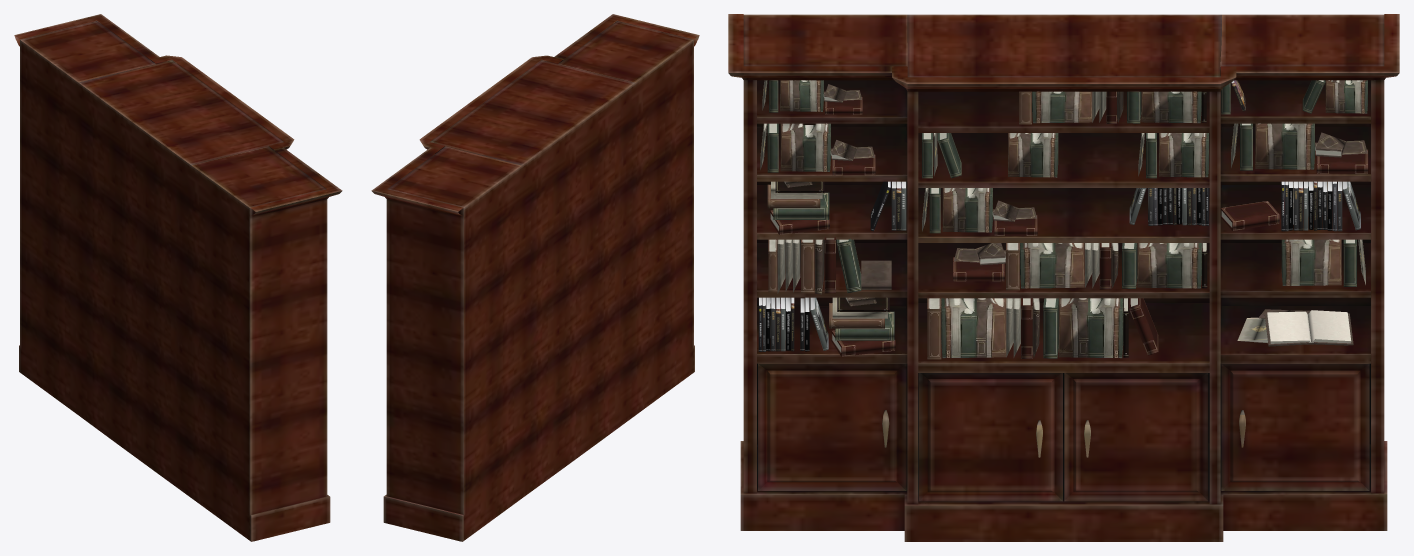
Rendered from bookshelf.glb.
3 renders of one model, left to right at view 1: azimuth 30°, elevation 25°; view 2: azimuth 150°, elevation 25°; view 3: azimuth 270°, elevation 25°, orthographic. The views are drawn at different scales.
Parts seen in each view (by area): view 1: shkaff_obj_1; view 2: shkaff_obj_1; view 3: shkaff_obj_1, BOOKS_1.
Part boxes in pixels (x1,y1,x2,y2): shkaff_obj_1: [14, 14, 342, 541]; shkaff_obj_1: [371, 14, 699, 541]; shkaff_obj_1: [728, 14, 1399, 541]; BOOKS_1: [758, 80, 1368, 359].
Bounding box in the file's own units: 1.24 × 3.82 × 5.01.
13 materials, 12 textured.
